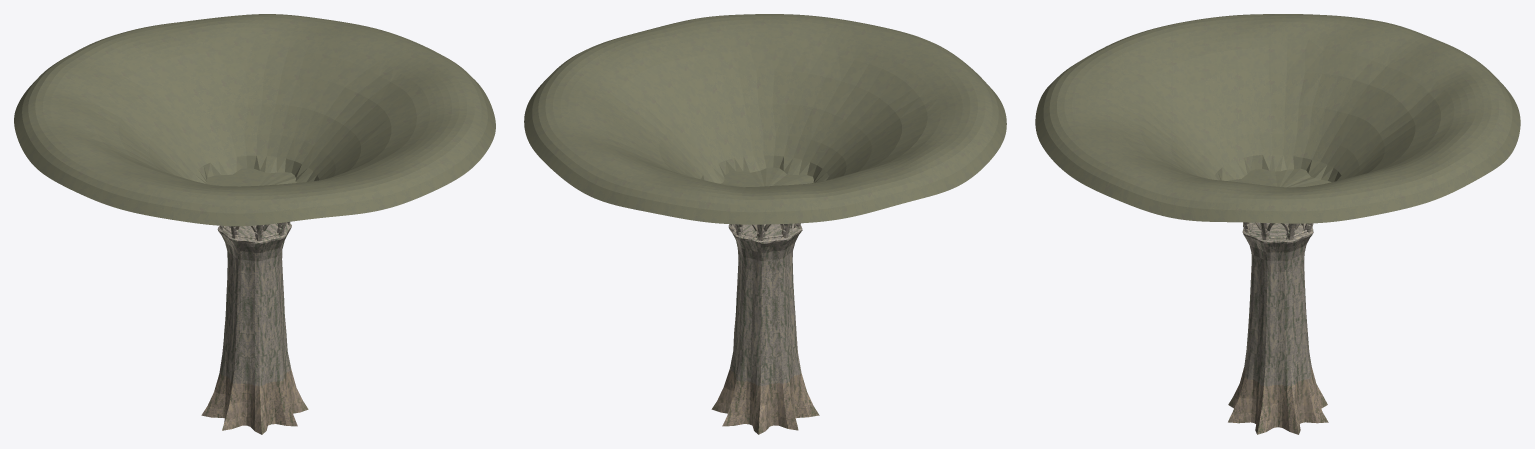
The model's file is forest_tree.glb.
3 renders of one model, left to right at view 1: azimuth 30°, elevation 25°; view 2: azimuth 150°, elevation 25°; view 3: azimuth 270°, elevation 25°, orthographic.
Visible parts, largest first — view 1: ForestTree; view 2: ForestTree; view 3: ForestTree.
Part boxes in pixels (box(x1,y1,x2,y2)): ForestTree: box(14, 14, 495, 434); ForestTree: box(524, 14, 1006, 434); ForestTree: box(1035, 14, 1520, 434).
Size of what is drawn, in the model's own units: 95.2 by 66.86 by 95.2.
5 materials, 5 textured.
